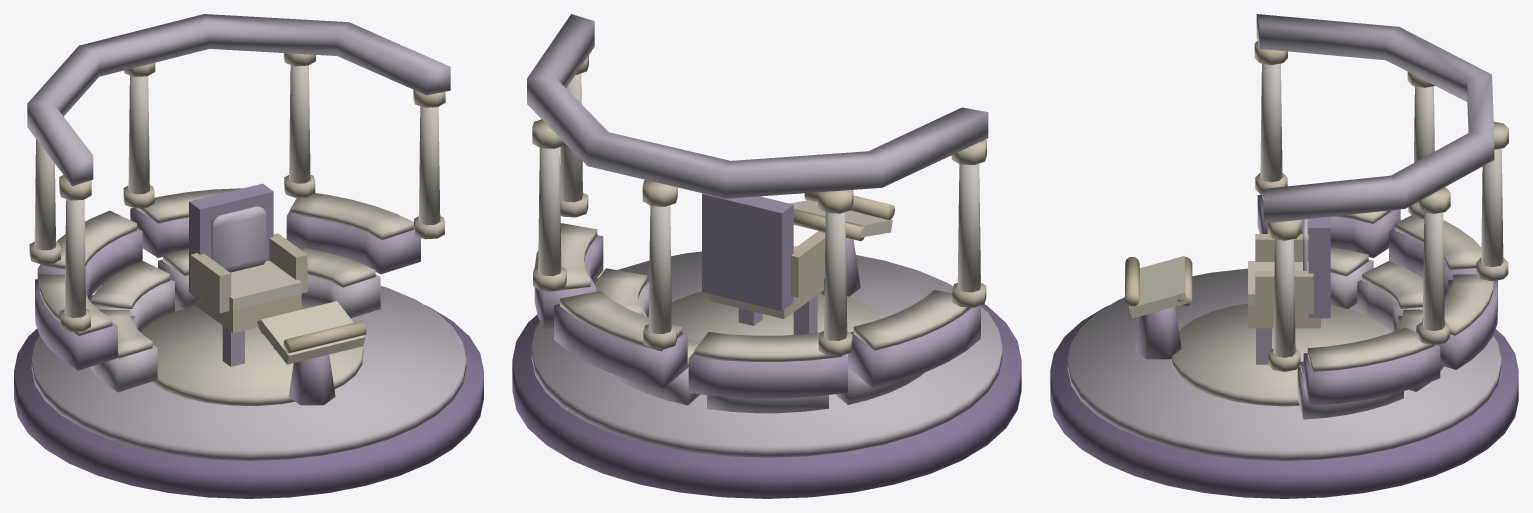
Rendered from ART-43.glb.
3 renders of one model, left to right at view 1: azimuth 30°, elevation 25°; view 2: azimuth 150°, elevation 25°; view 3: azimuth 270°, elevation 25°, orthographic. The views are drawn at different scales.
Visible parts, largest first — view 1: world; view 2: world; view 3: world.
Part boxes in pixels (x1,y1,x2,y2): world: [14, 14, 483, 498]; world: [512, 14, 1021, 498]; world: [1050, 14, 1518, 498].
Bounding box in the file's own units: 2 × 1.38 × 2.
